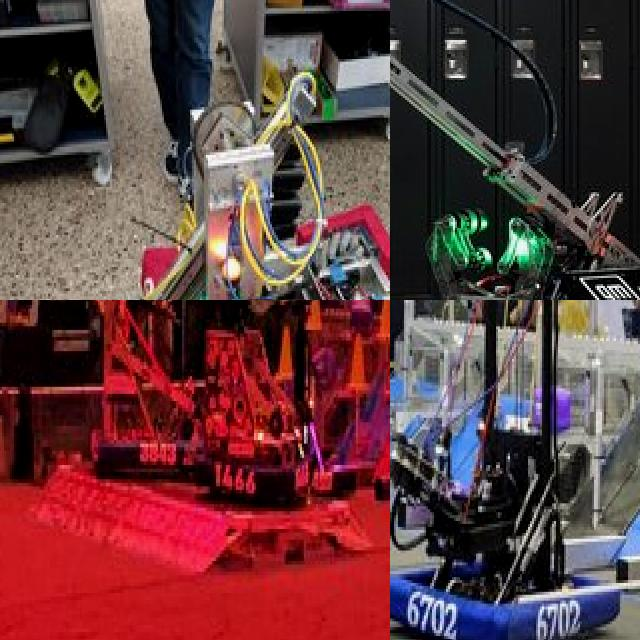FRC-Robots: (50, 60, 390, 300), (390, 300, 618, 640), (390, 0, 640, 300), (200, 300, 338, 594), (74, 300, 193, 527)
